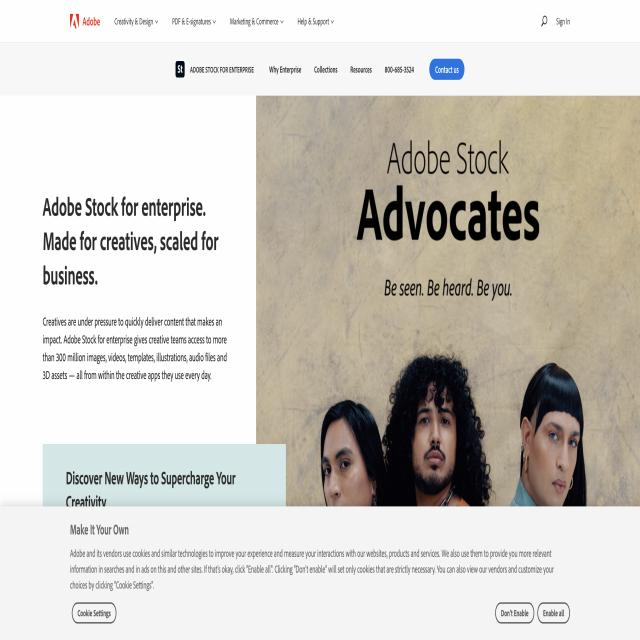Logo: (63, 0, 108, 37)
Navigation: (109, 1, 391, 35)
